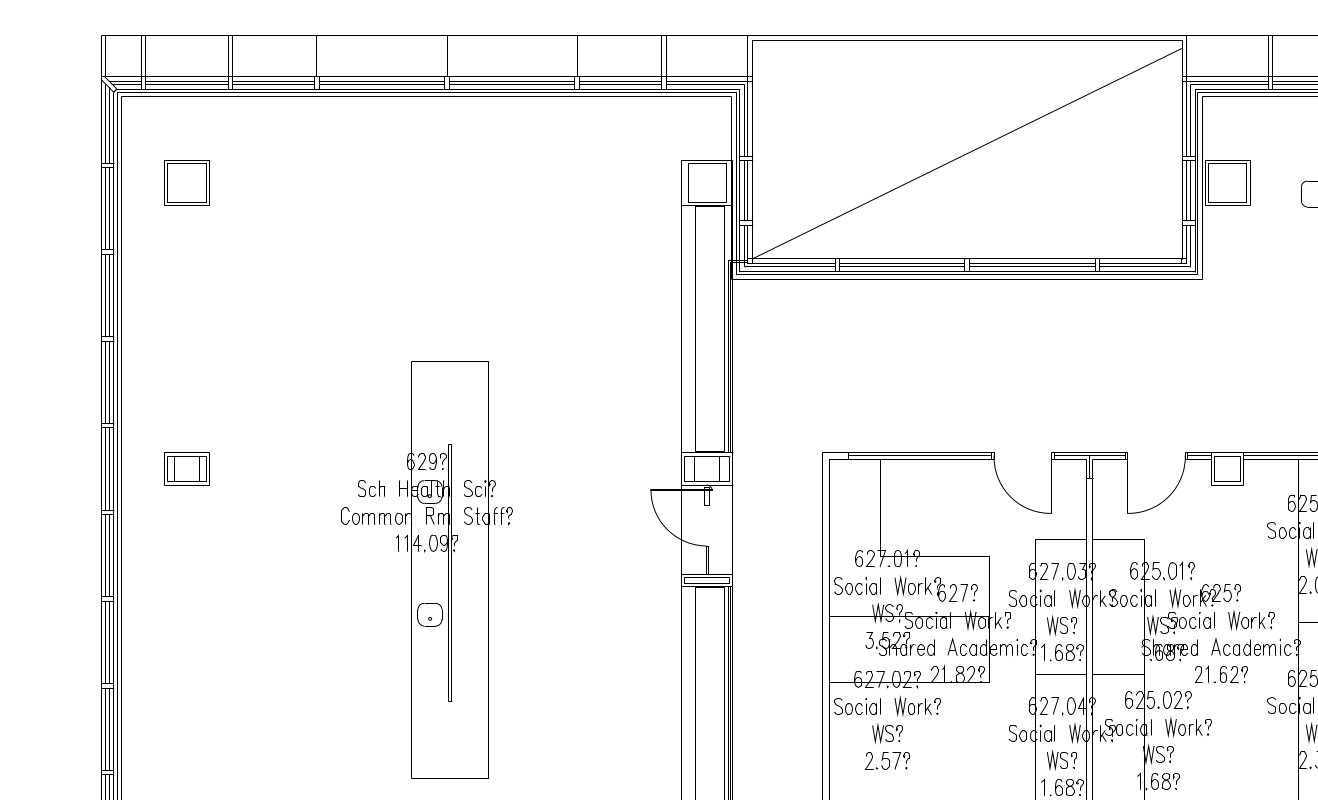door: (647, 486, 710, 558), (990, 456, 1053, 528), (1123, 458, 1186, 530)
